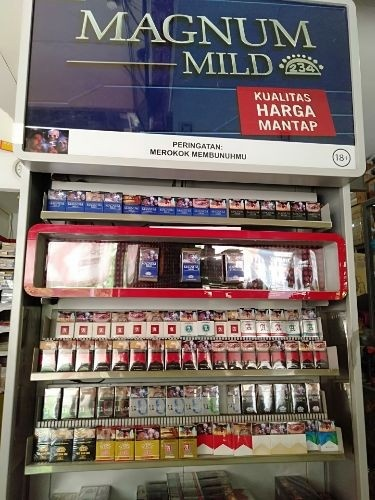A Mild 12: (215, 322, 226, 337)
A Mild 16: (111, 322, 128, 338), (129, 322, 146, 338), (93, 323, 111, 338), (147, 322, 164, 337), (165, 323, 180, 338), (57, 323, 73, 337), (76, 323, 92, 337), (227, 321, 241, 337)
A Mild Menthol 16: (197, 321, 215, 337), (181, 322, 196, 338)
Avolution Menthol 20: (301, 320, 318, 336), (285, 321, 300, 337)
Avolution Red 20: (270, 321, 286, 337), (256, 320, 271, 337), (242, 320, 255, 337)
Dji Sam Soe 12: (178, 439, 196, 458), (161, 440, 178, 459)
Dji Sam Soe 16: (135, 440, 158, 460), (115, 440, 135, 460), (95, 440, 114, 461)
Dji Sam Soe Super Premium 12: (51, 441, 72, 463), (74, 440, 95, 462), (33, 442, 50, 464)
Magnum Filter 12: (291, 211, 306, 221), (245, 209, 260, 218), (261, 210, 276, 219), (277, 210, 290, 220), (307, 212, 321, 221), (229, 209, 243, 217)
Magnum Mild 16: (140, 260, 158, 282), (184, 263, 201, 281), (243, 397, 256, 414)
Magnum Mild 20: (257, 396, 275, 414), (291, 396, 308, 413), (275, 397, 291, 413), (308, 396, 323, 413), (66, 201, 85, 212), (48, 199, 65, 211), (86, 201, 103, 213), (104, 203, 122, 214), (122, 205, 140, 214), (141, 206, 158, 215), (209, 208, 226, 217), (176, 207, 191, 216), (194, 207, 209, 216), (159, 207, 174, 215)
Marlboro Filter Black 12: (270, 352, 286, 369), (286, 351, 301, 369), (213, 351, 227, 369), (227, 352, 241, 369), (242, 352, 256, 369), (301, 351, 315, 368), (315, 351, 329, 368), (257, 352, 271, 368)
Marlboro Filter Black 20: (76, 349, 93, 372), (130, 349, 148, 370), (165, 348, 182, 370), (148, 349, 165, 369), (40, 350, 56, 371), (95, 349, 111, 370), (113, 349, 129, 370), (59, 349, 73, 371), (198, 349, 212, 370), (181, 349, 196, 368)
Marlboro Ice Burst 20: (319, 433, 338, 453), (306, 433, 319, 452)
Marlboro Light 20: (287, 435, 306, 454), (269, 435, 287, 454), (253, 436, 270, 455)
Marlboro Red 20: (213, 435, 233, 456), (233, 436, 253, 456), (194, 436, 214, 455)
U Mild 16: (129, 398, 147, 417), (166, 398, 184, 416), (148, 398, 165, 416), (184, 398, 201, 416)
U Mild Cool 16: (202, 397, 219, 415)
Unknown HMS: (97, 398, 114, 418), (44, 397, 60, 418), (62, 398, 77, 418), (80, 398, 95, 418), (115, 398, 129, 417)
display-magnum: (25, 3, 352, 162)
